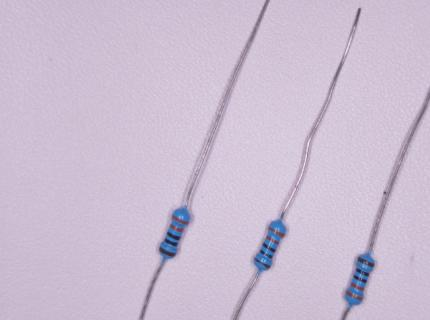Black band: (262, 242, 276, 252), (164, 237, 179, 246), (260, 249, 273, 259), (167, 231, 181, 240), (356, 267, 370, 276), (354, 274, 367, 283)
Brown band: (254, 257, 271, 269), (357, 256, 375, 267), (159, 246, 177, 257)
Orange band: (172, 214, 189, 225), (268, 226, 285, 237), (346, 290, 363, 300), (266, 235, 280, 245), (350, 282, 365, 291), (170, 223, 184, 232)
